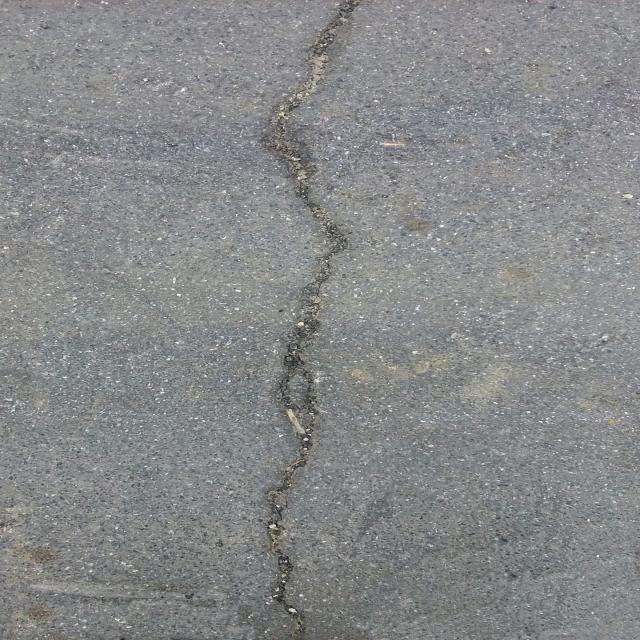Longitudial: (193, 0, 416, 640)
